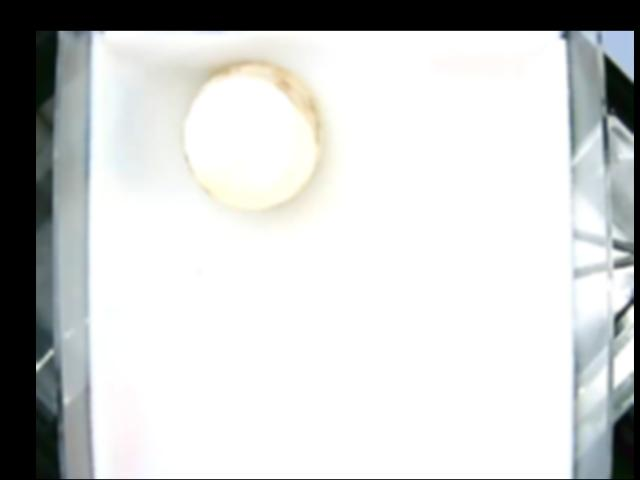Mooli: (184, 59, 321, 207)
